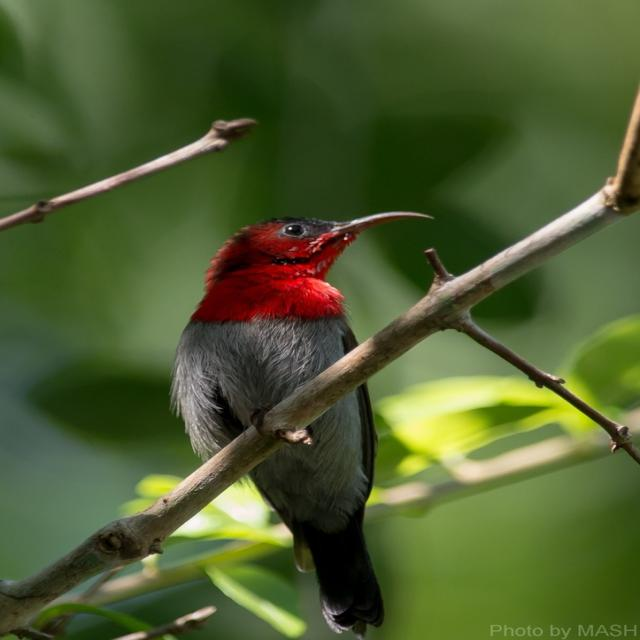bird: (172, 209, 444, 635)
